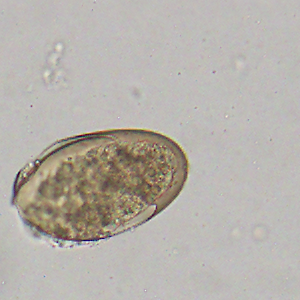Fasciola_hepatica_egg: (11, 127, 189, 246)
